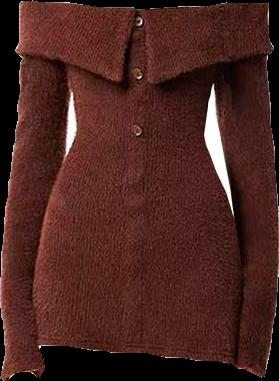Bodice: (15, 1, 271, 141)
Hemline: (35, 342, 239, 364)
Neckline: (19, 1, 268, 11)
Skirt: (33, 140, 242, 363)
Sleeve: (0, 55, 70, 380), (213, 54, 277, 375)
Sleeveline: (20, 54, 73, 87), (212, 54, 266, 80)
Waistline: (15, 12, 270, 85)
